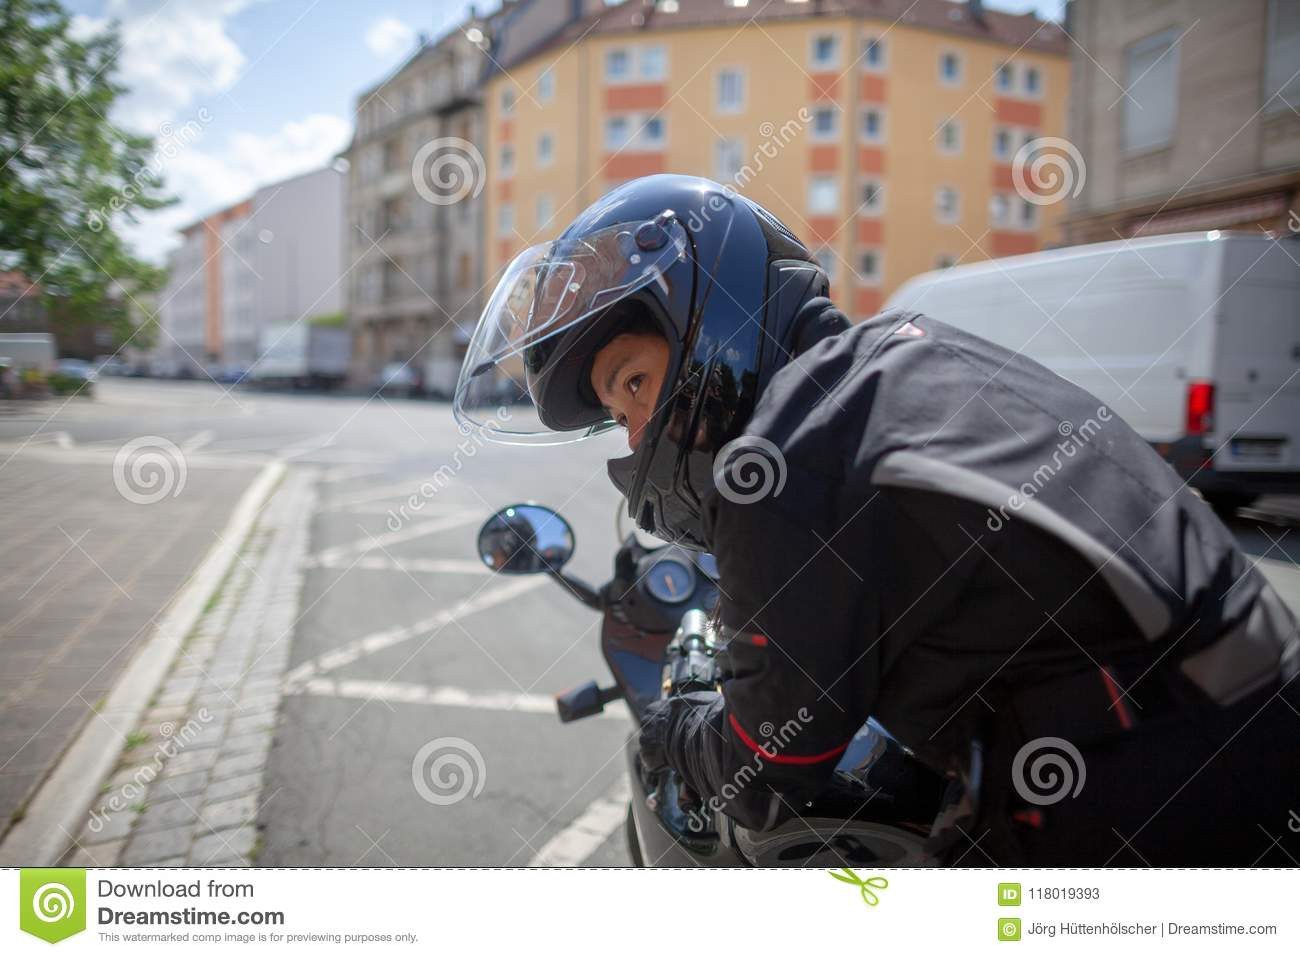helmet: (510, 186, 815, 545)
